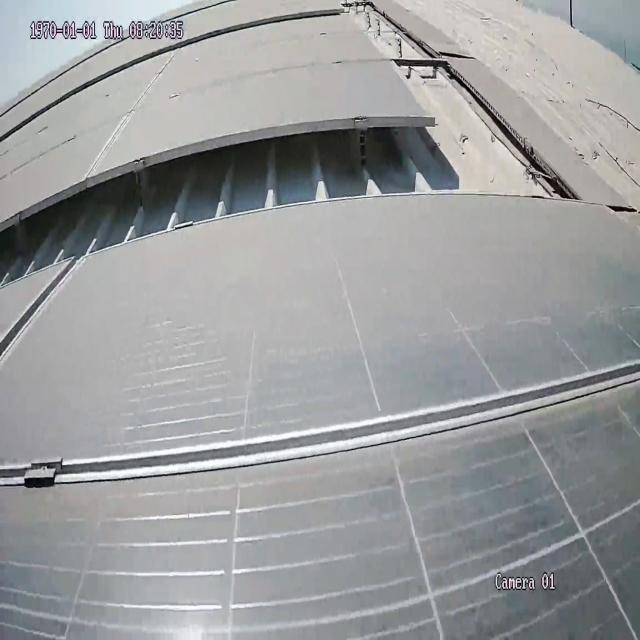interior panel: (0, 261, 640, 522), (75, 51, 178, 183)
outher panel: (0, 0, 640, 286)
